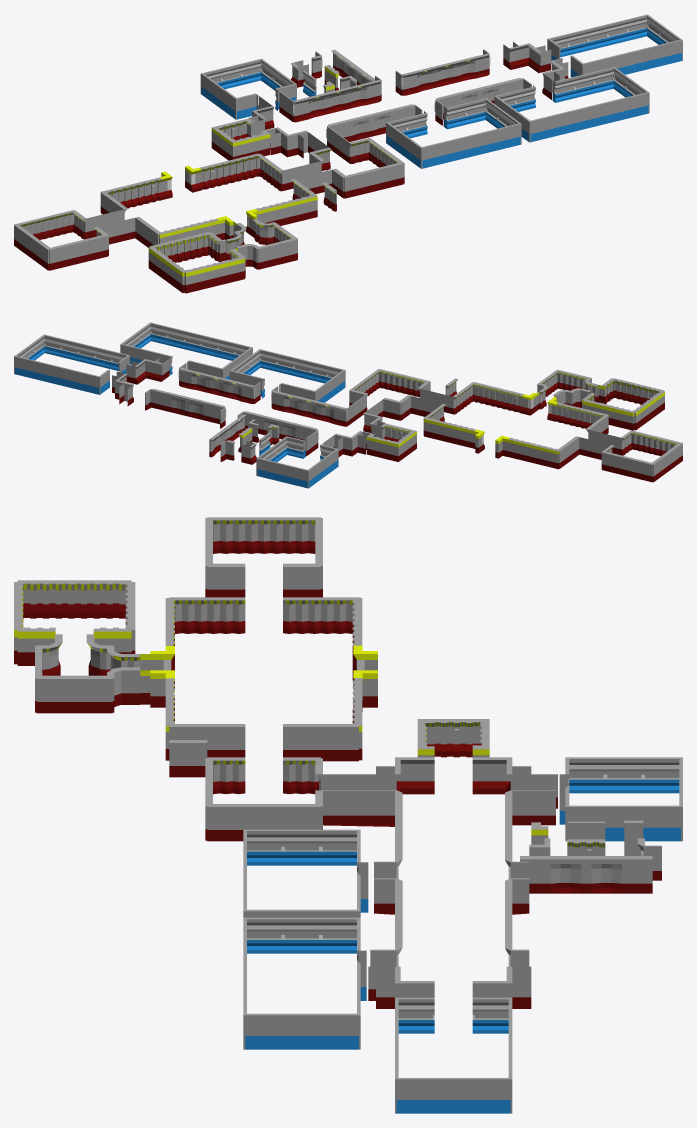
Rendered from Containment1.fbx_Walls.fbx.
The picture shows the model from 3 angles, top to bottom: view 1: azimuth 30°, elevation 25°; view 2: azimuth 150°, elevation 25°; view 3: azimuth 270°, elevation 25°; orthographic projection. The views are drawn at different scales.
Parts seen in each view (by area): view 1: OffWall.008, OffWall.017, OffWall.002, OffWall.004, Plane.012, Plane.013, Cube.009, WallHBase.006, HCont.012, HCont.003, OffWall.010, Plane.014 (+36 smaller); view 2: OffWall.008, OffWall.002, OffWall.004, OffWall.017, Plane.013, Plane.014, Plane.015, WallHBase.005, WallHBase.006, HCont.002, WallHBase.004, OffWall.016 (+45 smaller); view 3: Plane.016, OffWall.006, OffWall.001, OffWall.007, OffWall.009, OffWall.018, Cube.010, HCont.001, HCont.005, OffWall.012, HCont.013, HCont.020 (+21 smaller).
Part boxes in pixels (<box>): OffWall.008: <box>530,92,648,141</box>; OffWall.017: <box>422,123,520,168</box>; OffWall.002: <box>549,14,647,57</box>; OffWall.004: <box>583,40,681,74</box>; Plane.012: <box>302,82,373,120</box>; Plane.013: <box>411,55,481,93</box>; Cube.009: <box>184,257,244,293</box>; WallHBase.006: <box>199,153,260,189</box>; HCont.012: <box>343,162,403,198</box>; HCont.003: <box>48,234,108,270</box>; OffWall.010: <box>552,67,613,102</box>; Plane.014: <box>335,106,406,141</box>; OffWall.008: <box>150,322,251,360</box>; OffWall.002: <box>15,356,99,394</box>; OffWall.004: <box>44,334,128,371</box>; OffWall.017: <box>260,349,344,383</box>; Plane.013: <box>158,390,218,423</box>; Plane.014: <box>278,392,338,424</box>; Plane.015: <box>186,369,246,402</box>; WallHBase.005: <box>508,437,559,469</box>; WallHBase.006: <box>424,417,475,448</box>; HCont.002: <box>602,451,653,482</box>; WallHBase.004: <box>472,382,524,413</box>; OffWall.016: <box>257,458,307,488</box>; Plane.016: <box>520,856,652,893</box>; OffWall.006: <box>245,1013,358,1049</box>; OffWall.001: <box>396,1078,510,1113</box>; OffWall.007: <box>567,757,680,793</box>; OffWall.009: <box>245,917,358,953</box>; OffWall.018: <box>245,829,358,865</box>; Cube.010: <box>17,580,131,618</box>; HCont.001: <box>207,517,320,553</box>; HCont.005: <box>207,804,320,841</box>; OffWall.012: <box>567,805,680,841</box>; HCont.013: <box>36,675,112,713</box>; HCont.020: <box>283,724,358,761</box>.
Bounding box in the file's own units: 10530 × 300 × 5295.
